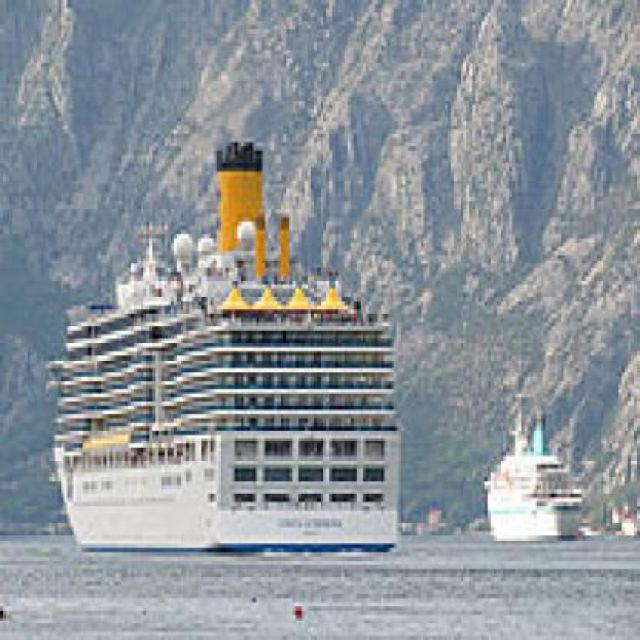cruise: (41, 118, 410, 561), (479, 394, 596, 553)
